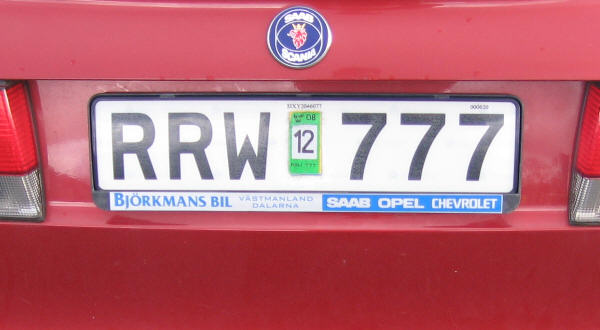license_plate: (91, 95, 517, 197)
